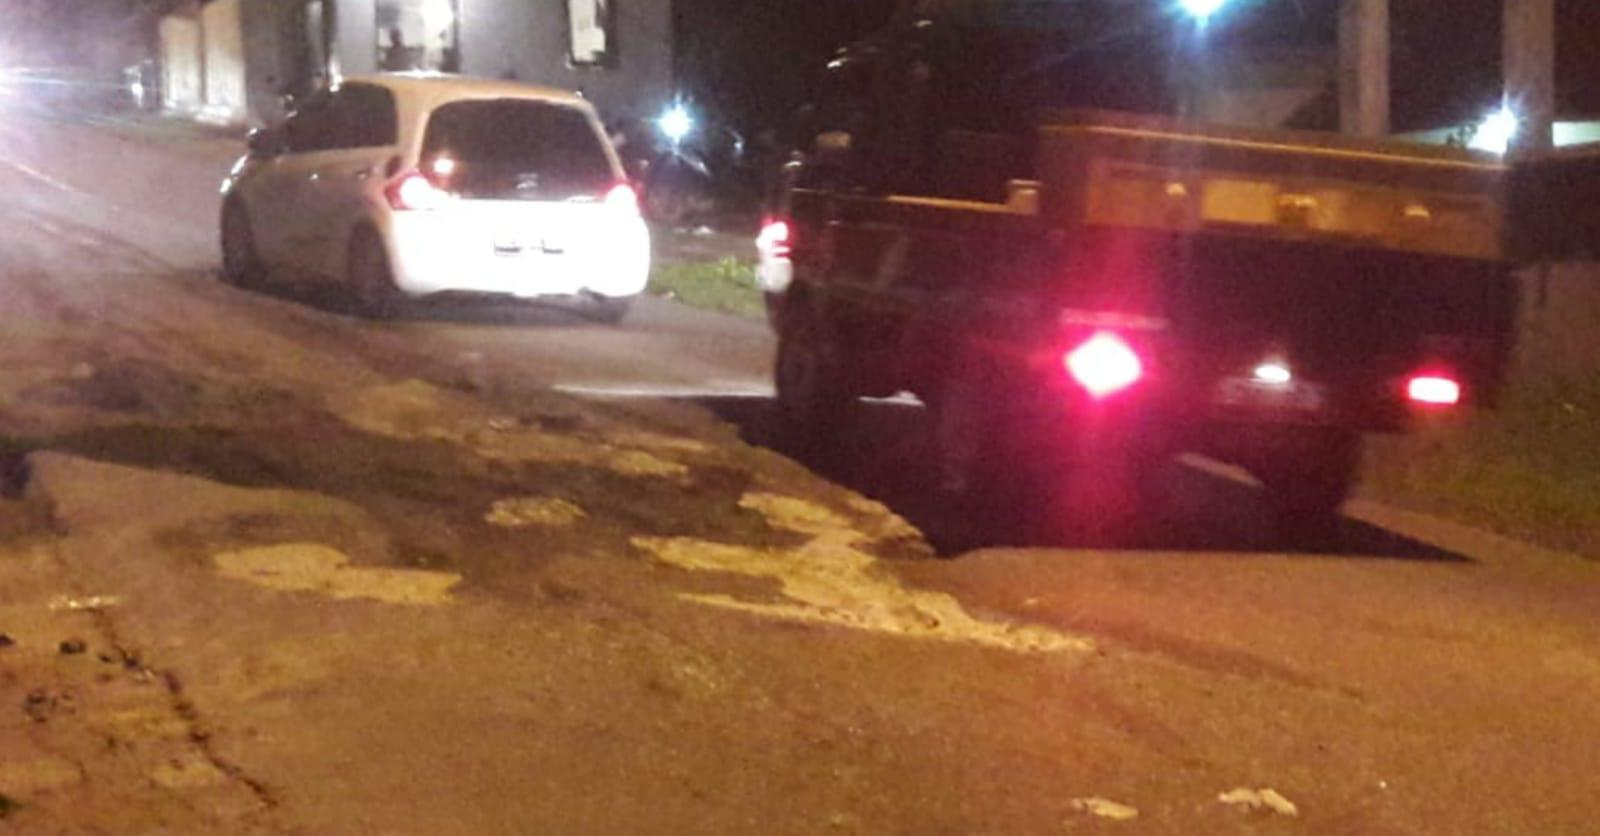Pothole: (141, 301, 789, 633)
